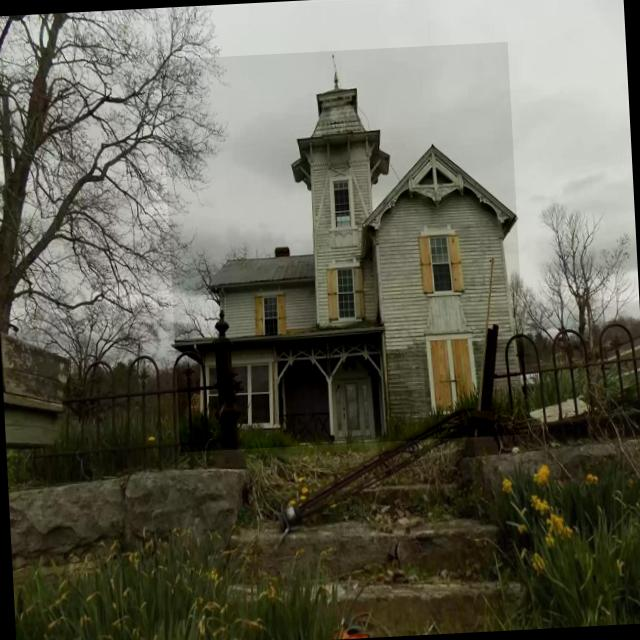House: (160, 41, 528, 452)
